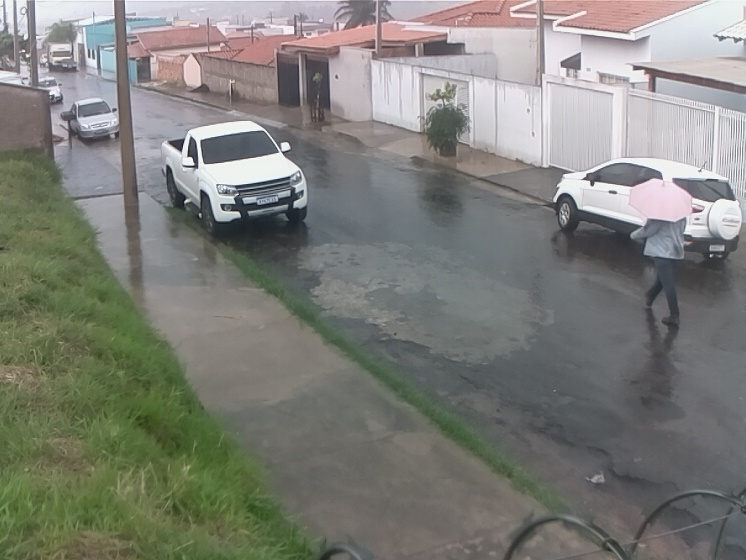person: (628, 214, 690, 329)
